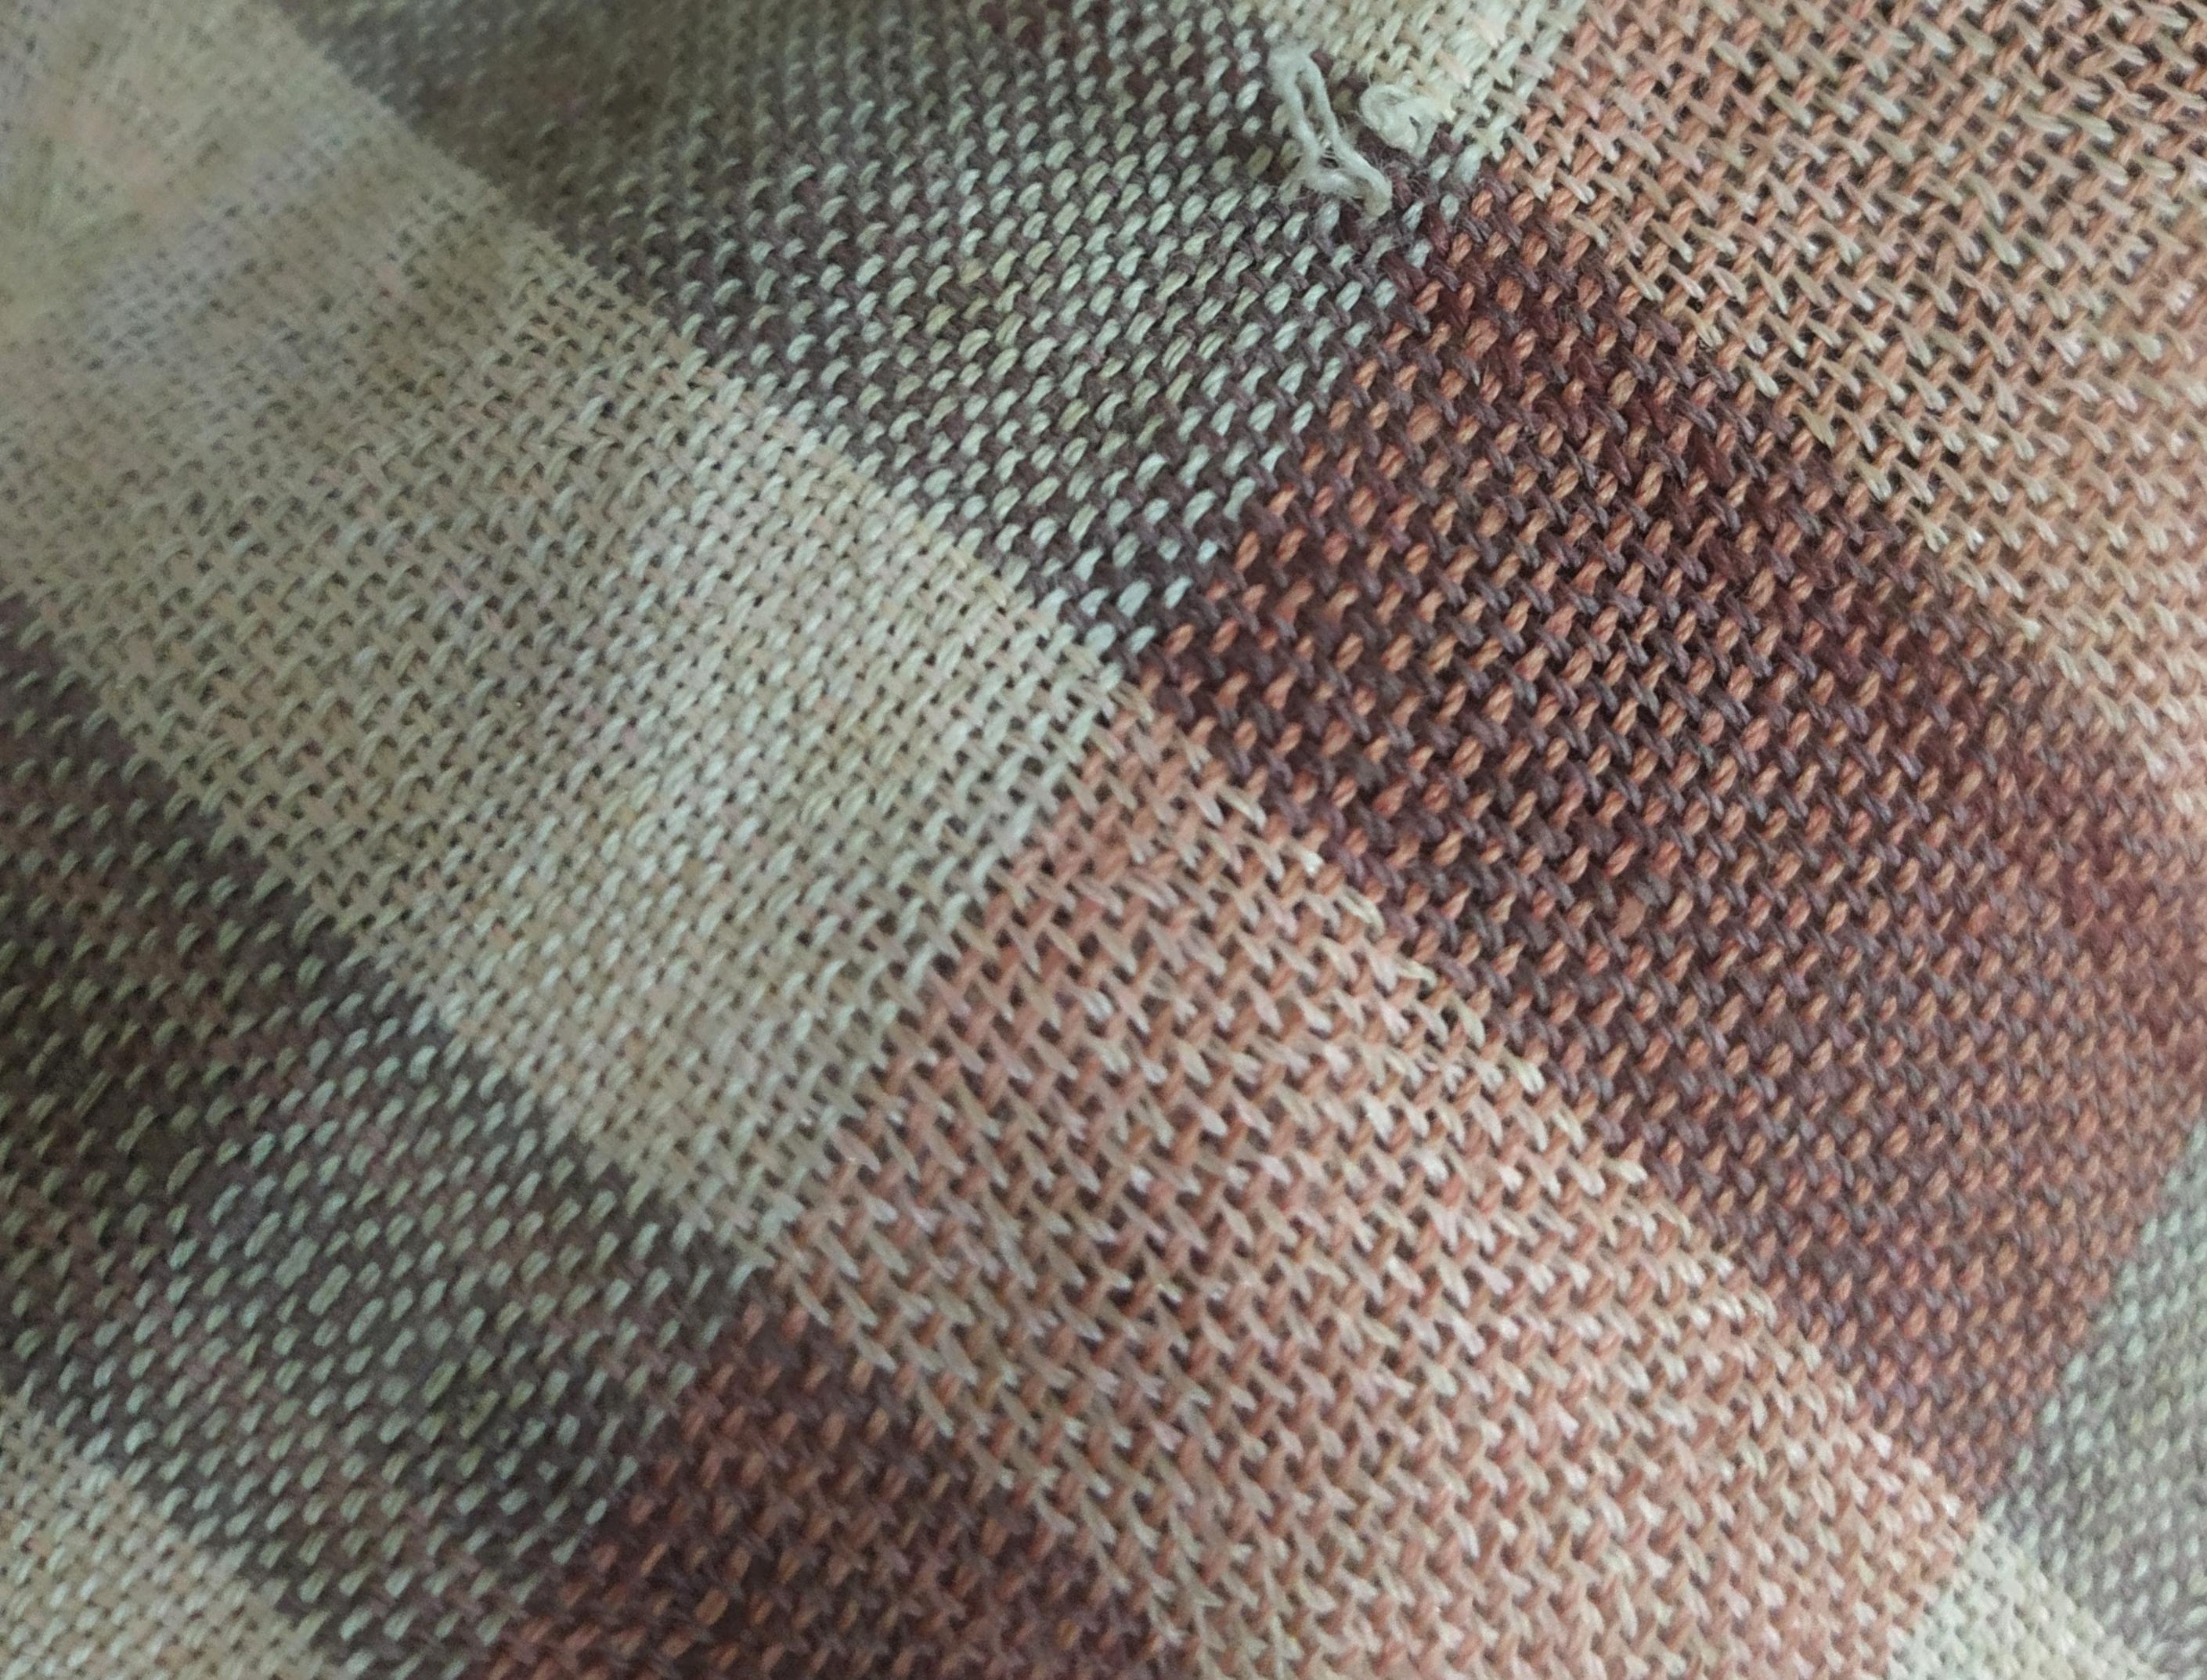snag: (1254, 34, 1489, 236)
